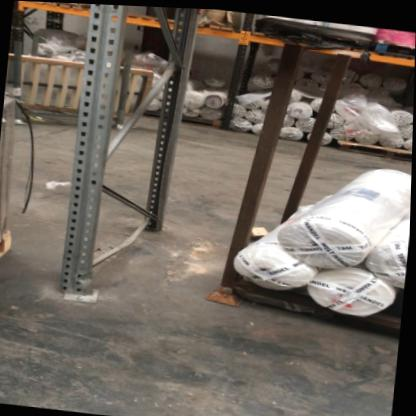vertical_damage: (52, 259, 112, 309)
